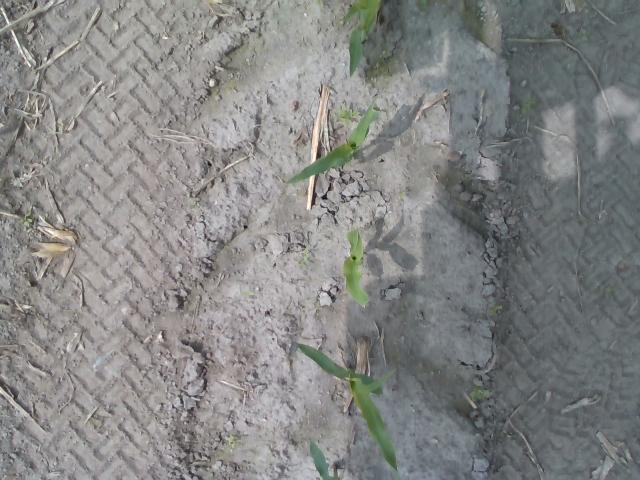Maize: (292, 342, 402, 474), (286, 104, 378, 184), (341, 0, 382, 77), (340, 232, 370, 306), (308, 438, 336, 480)
Weeds: (468, 388, 491, 401), (519, 95, 534, 114), (338, 108, 358, 122), (227, 434, 240, 450), (298, 253, 311, 266), (20, 216, 32, 227)
